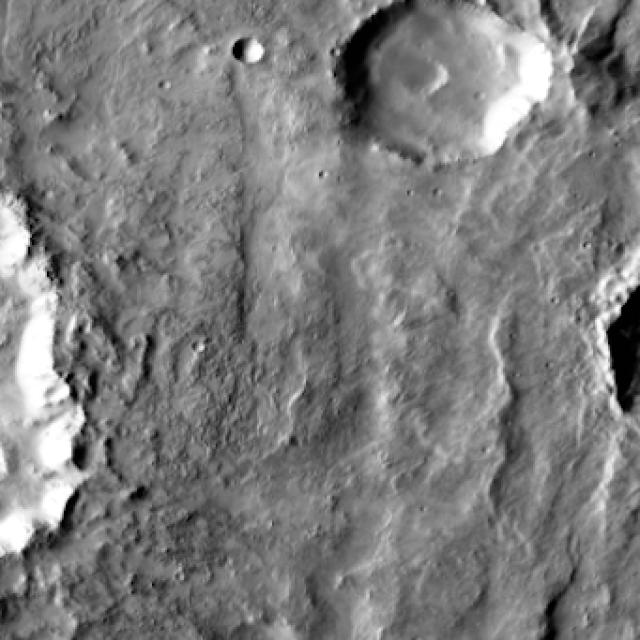Crater: (319, 0, 602, 185), (593, 236, 640, 477)
